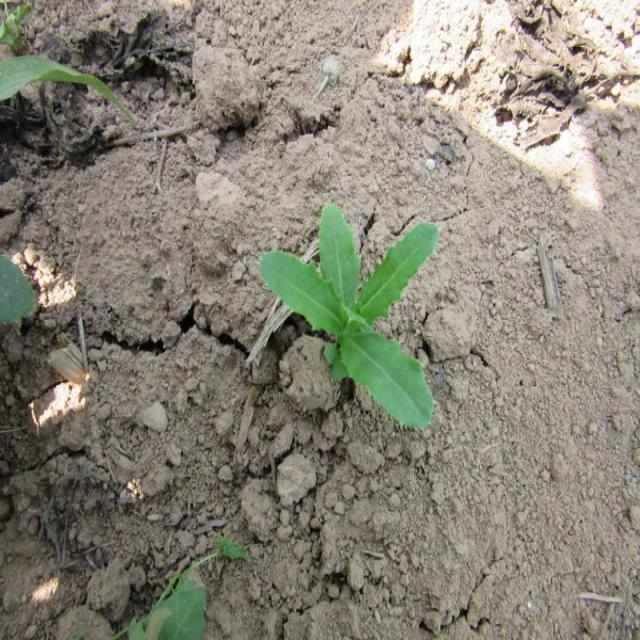cs: (252, 192, 444, 435)
